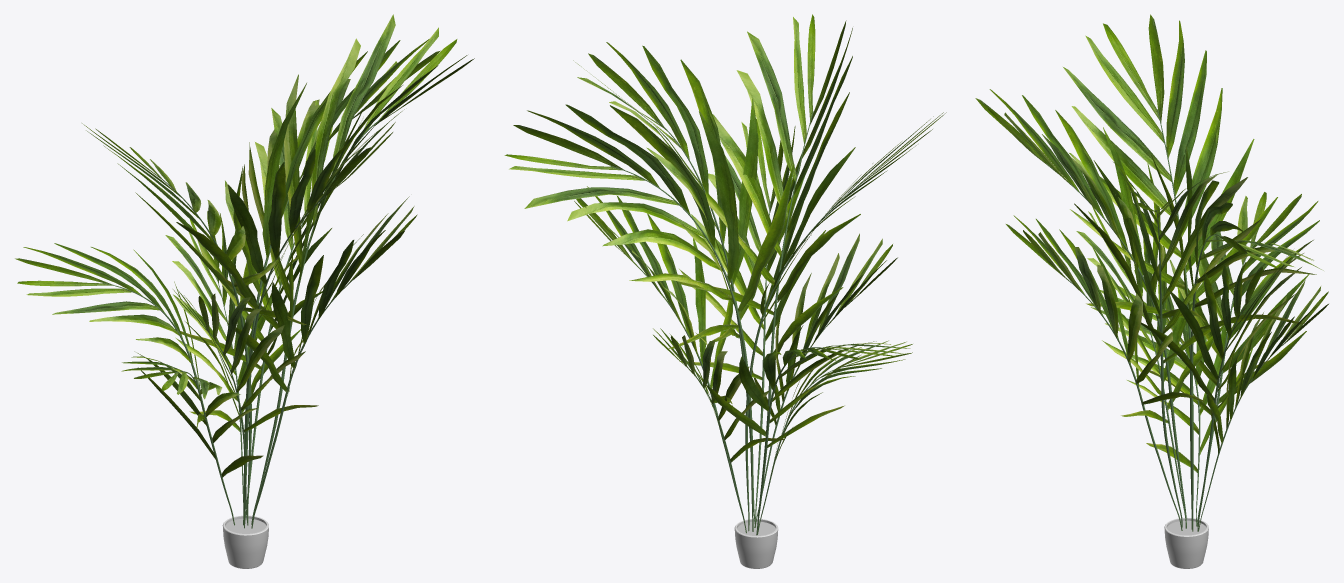
The model's file is plant1.fbx.
3 views of the same model, side by side, from view 1: azimuth 30°, elevation 25°; view 2: azimuth 150°, elevation 25°; view 3: azimuth 270°, elevation 25° (orthographic). The views are drawn at different scales.
Parts seen in each view (by area): view 1: Palm_01.001, Palm_01; view 2: Palm_01.001, Palm_01; view 3: Palm_01.001, Palm_01.
Part boxes in pixels (x1,y1,x2,y2): Palm_01.001: [15, 14, 474, 528]; Palm_01: [222, 515, 268, 568]; Palm_01.001: [504, 14, 946, 535]; Palm_01: [734, 518, 778, 568]; Palm_01.001: [975, 14, 1328, 531]; Palm_01: [1164, 517, 1208, 568].
Size of the model in its own units: 124 by 142 by 95.81.
